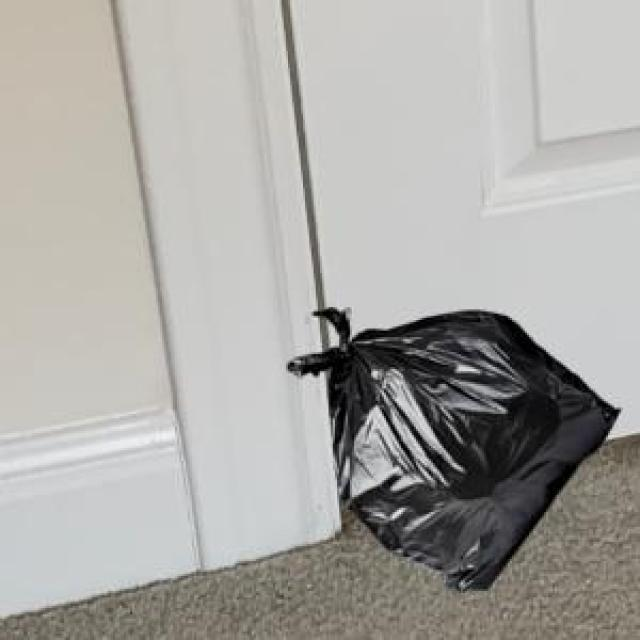Vinyl: (289, 311, 619, 589)
